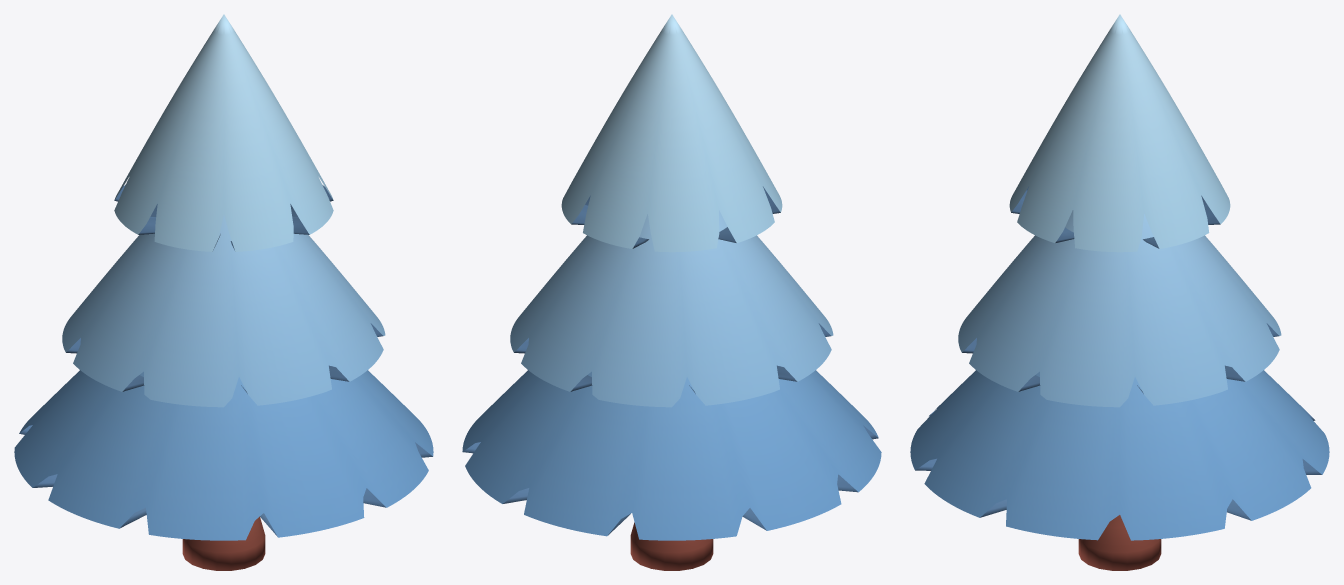
File: pine_1.glb
The picture shows the model from 3 angles, left to right: view 1: azimuth 30°, elevation 25°; view 2: azimuth 150°, elevation 25°; view 3: azimuth 270°, elevation 25°; orthographic projection.
Parts seen in each view (by area): view 1: pine_1; view 2: pine_1; view 3: pine_1.
Boxes of the visible parts, <box> form: pine_1: <box>14,14,433,570</box>; pine_1: <box>462,14,881,570</box>; pine_1: <box>910,14,1329,570</box>.
Bounding box in the file's own units: 2.28 × 3.24 × 2.28.
Materials: 3 (3 with a texture image).
